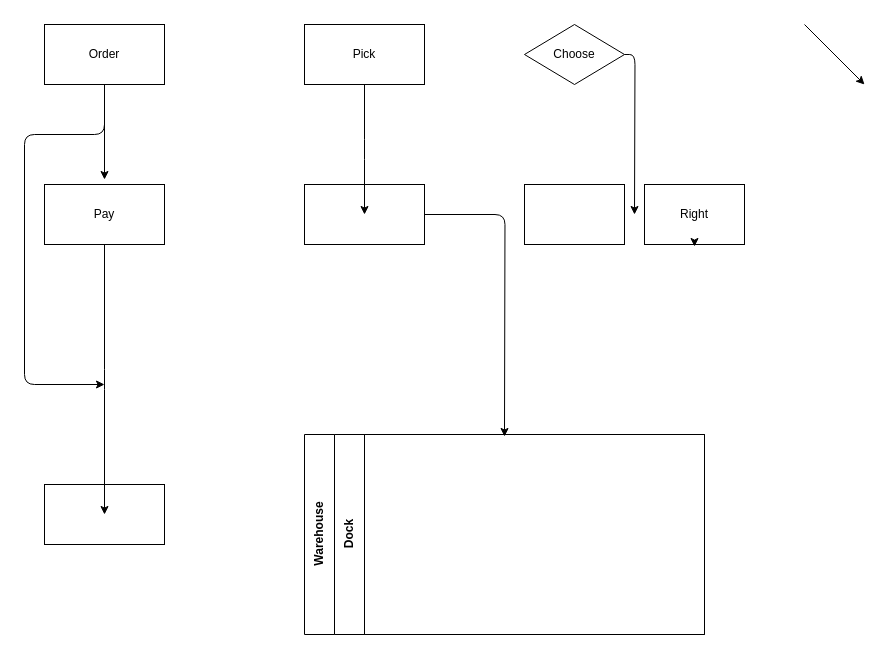
Some shapes in this 890 by 652 pixel diagram are drawn without their labels. The shapes that lost their labels are listed below. From the top down, each one's box as (x1, y1, x2, y2) in pixels, then its label:
(304, 184, 424, 244): Pack
(524, 184, 624, 244): Left
(44, 484, 164, 544): Ship
